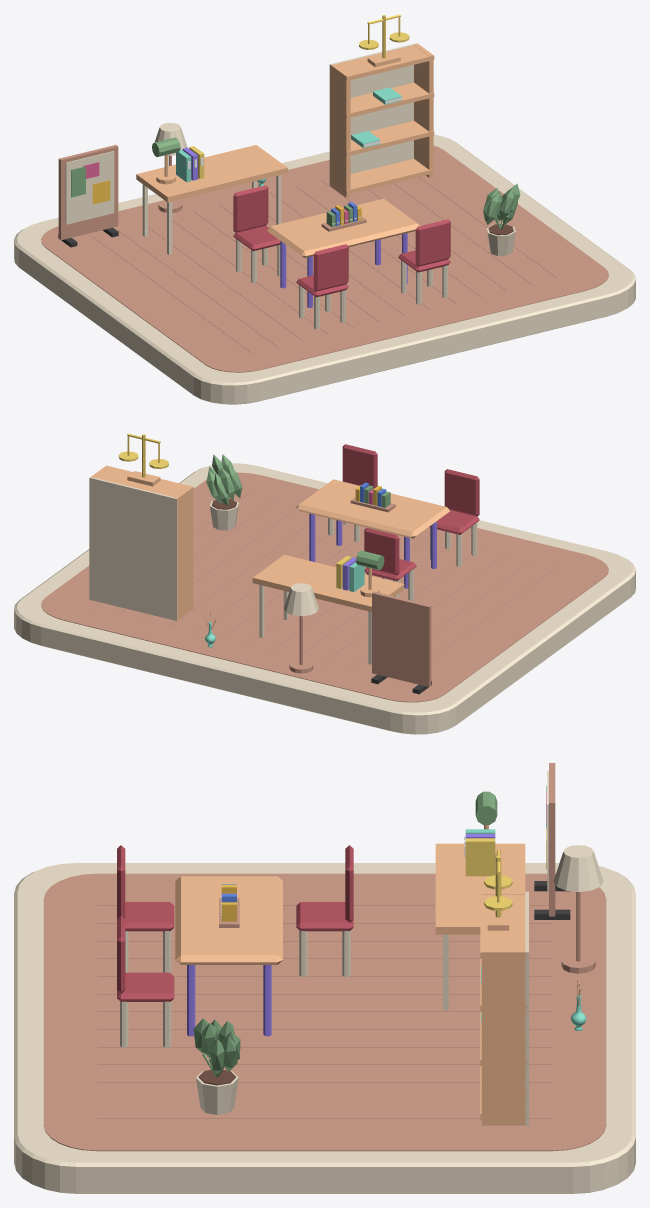
3 views of the same model, one above another, from view 1: azimuth 30°, elevation 25°; view 2: azimuth 150°, elevation 25°; view 3: azimuth 270°, elevation 25° (orthographic). The views are drawn at different scales.
Parts seen in each view (by area): view 1: COM-02 Floor Surface, COM-01 Rounded Base Direct, Top, Rounded table top, Back, Side, Canvas, Panel, Pot, Side.001, Shelf, Backrest (+6 smaller); view 2: COM-02 Floor Surface, COM-01 Rounded Base Direct, Back, Panel, Rounded table top, Top, Side, Pot, Backrest, Backrest.001, Backrest.002, Shelf.003 (+2 smaller); view 3: COM-02 Floor Surface, COM-01 Rounded Base Direct, Rounded table top, Side.001, Top, Pot, Shelf.003, Lamp shade, Seat.001, Seat.002, Seat, File.002 (+14 smaller).
Boxes of the visible parts, x1,y1,x2,y2 form: COM-02 Floor Surface: [41, 145, 608, 372]; COM-01 Rounded Base Direct: [14, 134, 635, 404]; Top: [136, 145, 287, 254]; Rounded table top: [267, 198, 420, 257]; Back: [329, 43, 417, 185]; Side: [330, 64, 350, 197]; Canvas: [65, 151, 114, 224]; Panel: [58, 145, 118, 240]; Pot: [483, 183, 520, 255]; Side.001: [414, 44, 433, 177]; Shelf: [330, 159, 434, 194]; Backrest: [313, 244, 348, 291]; COM-02 Floor Surface: [41, 472, 608, 702]; COM-01 Rounded Base Direct: [14, 463, 635, 734]; Back: [89, 477, 177, 620]; Panel: [372, 591, 431, 686]; Rounded table top: [296, 479, 449, 538]; Top: [252, 554, 404, 664]; Side: [173, 486, 193, 619]; Pot: [206, 454, 242, 530]; Backrest: [444, 469, 479, 516]; Backrest.001: [342, 444, 377, 488]; Backrest.002: [364, 528, 399, 575]; Shelf.003: [96, 465, 193, 496]; COM-02 Floor Surface: [43, 873, 606, 1151]; COM-01 Rounded Base Direct: [14, 863, 635, 1193]; Rounded table top: [175, 876, 282, 964]; Side.001: [481, 949, 526, 1125]; Top: [435, 843, 525, 1010]; Pot: [193, 1018, 240, 1114]; Shelf.003: [480, 892, 528, 958]; Lamp shade: [553, 845, 603, 891]; Seat.001: [117, 972, 174, 1001]; Seat.002: [296, 902, 353, 931]; Seat: [125, 902, 174, 931]; File.002: [465, 838, 495, 876].
Bounding box in the file's own units: 6 × 2.5 × 5.2.
Materials: 1 (1 with a texture image).
